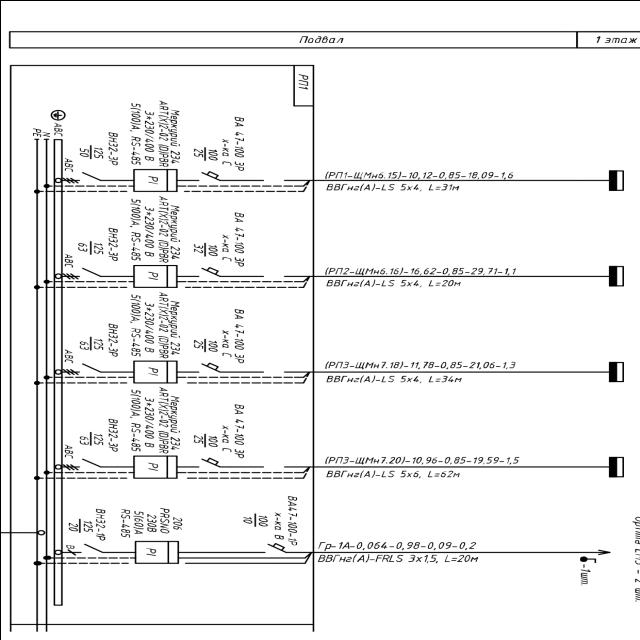-: (124, 290, 184, 360), (123, 98, 183, 168), (124, 386, 185, 454), (128, 196, 185, 262), (190, 210, 250, 268), (190, 304, 246, 364), (241, 492, 301, 546), (192, 403, 247, 460), (192, 116, 247, 172), (116, 505, 182, 539), (75, 126, 121, 168), (74, 224, 120, 263), (77, 320, 121, 358), (77, 418, 121, 453), (67, 508, 110, 542), (294, 72, 310, 92)
QF: (194, 456, 222, 469), (195, 168, 223, 181), (196, 361, 223, 374), (260, 542, 288, 554), (196, 266, 224, 278)
QS: (76, 458, 102, 470), (76, 362, 102, 374), (76, 266, 102, 278), (77, 170, 103, 182), (78, 542, 103, 554)
WH: (132, 358, 178, 383), (133, 540, 179, 565), (132, 168, 178, 192), (132, 455, 178, 479), (131, 264, 177, 287)
